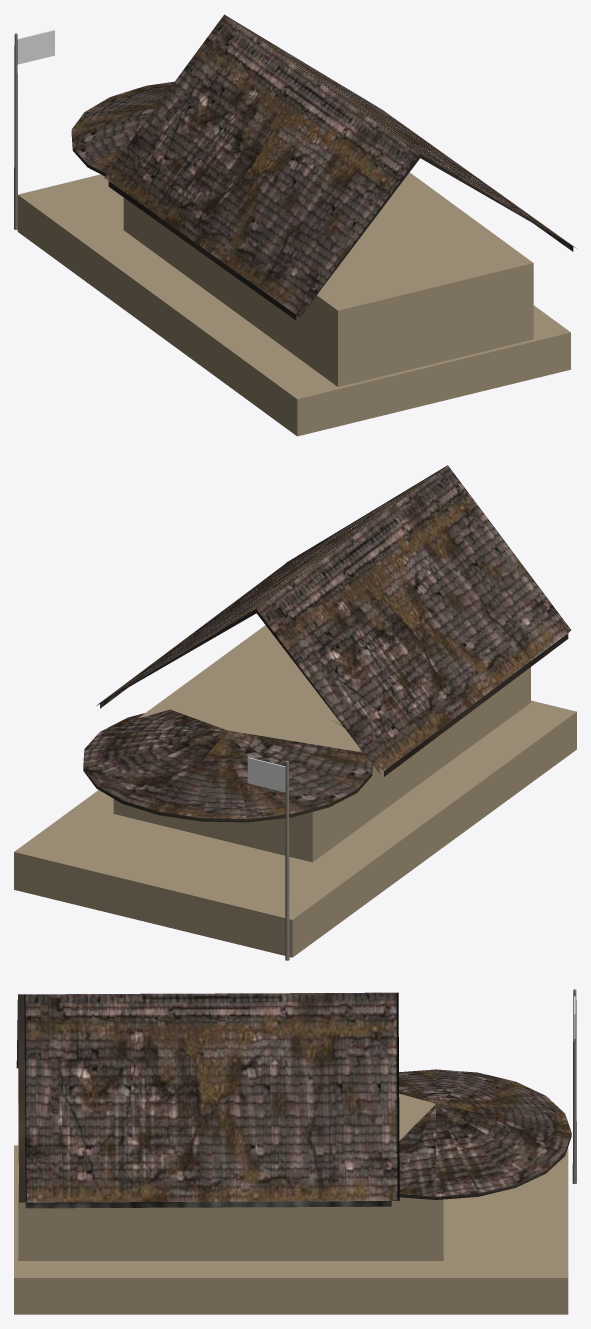
3 views of the same model, one above another, from view 1: azimuth 30°, elevation 25°; view 2: azimuth 150°, elevation 25°; view 3: azimuth 270°, elevation 25° (orthographic). The views are drawn at different scales.
Parts seen in each view (by area): view 1: dweller_building_housing; view 2: dweller_building_housing; view 3: dweller_building_housing.
Boxes of the visible parts, x1,y1,x2,y2 form: dweller_building_housing: (14,14,576,436); dweller_building_housing: (14,465,576,960); dweller_building_housing: (14,989,576,1314).
Bounding box in the file's own units: 10.62 × 9 × 18.49.
4 materials, 1 textured.
